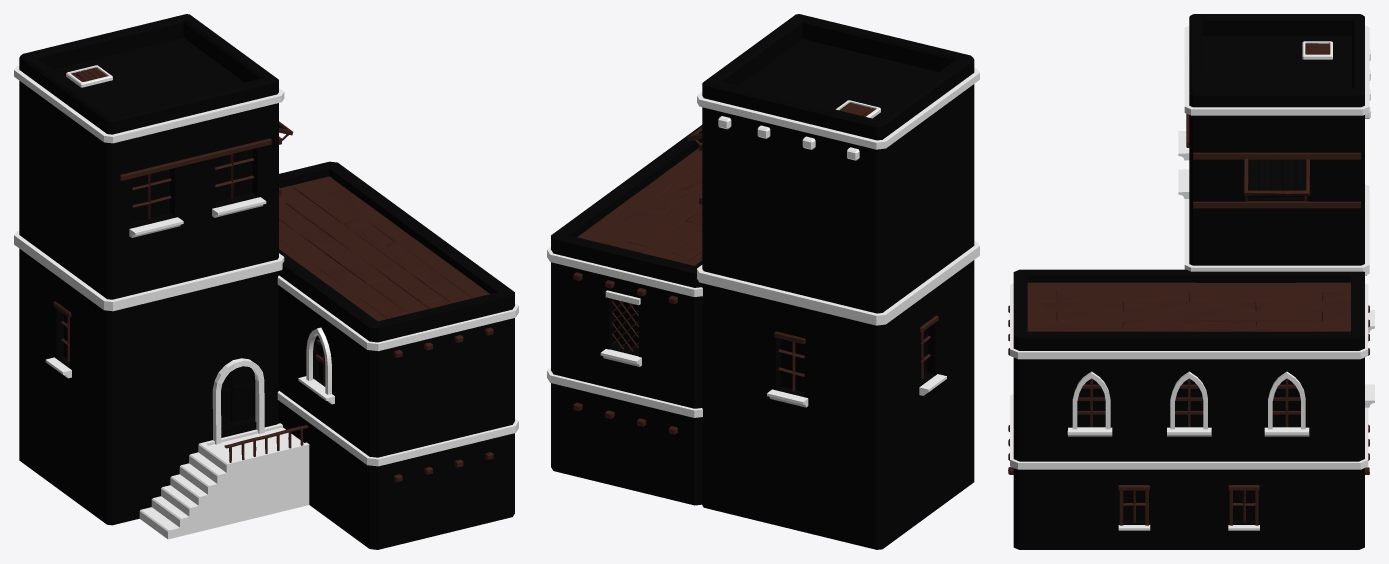
The model's file is civilian_house_12.FBX.
The picture shows the model from 3 angles, left to right: view 1: azimuth 30°, elevation 25°; view 2: azimuth 150°, elevation 25°; view 3: azimuth 270°, elevation 25°; orthographic projection. The views are drawn at different scales.
Parts seen in each view (by area): view 1: civilian_house_12; view 2: civilian_house_12; view 3: civilian_house_12.
Part boxes in pixels (x1,y1,x2,y2): civilian_house_12: (14, 14, 518, 549); civilian_house_12: (547, 14, 979, 549); civilian_house_12: (1008, 14, 1374, 549).
Size of the model in its own units: 1589 by 1830 by 1566.
